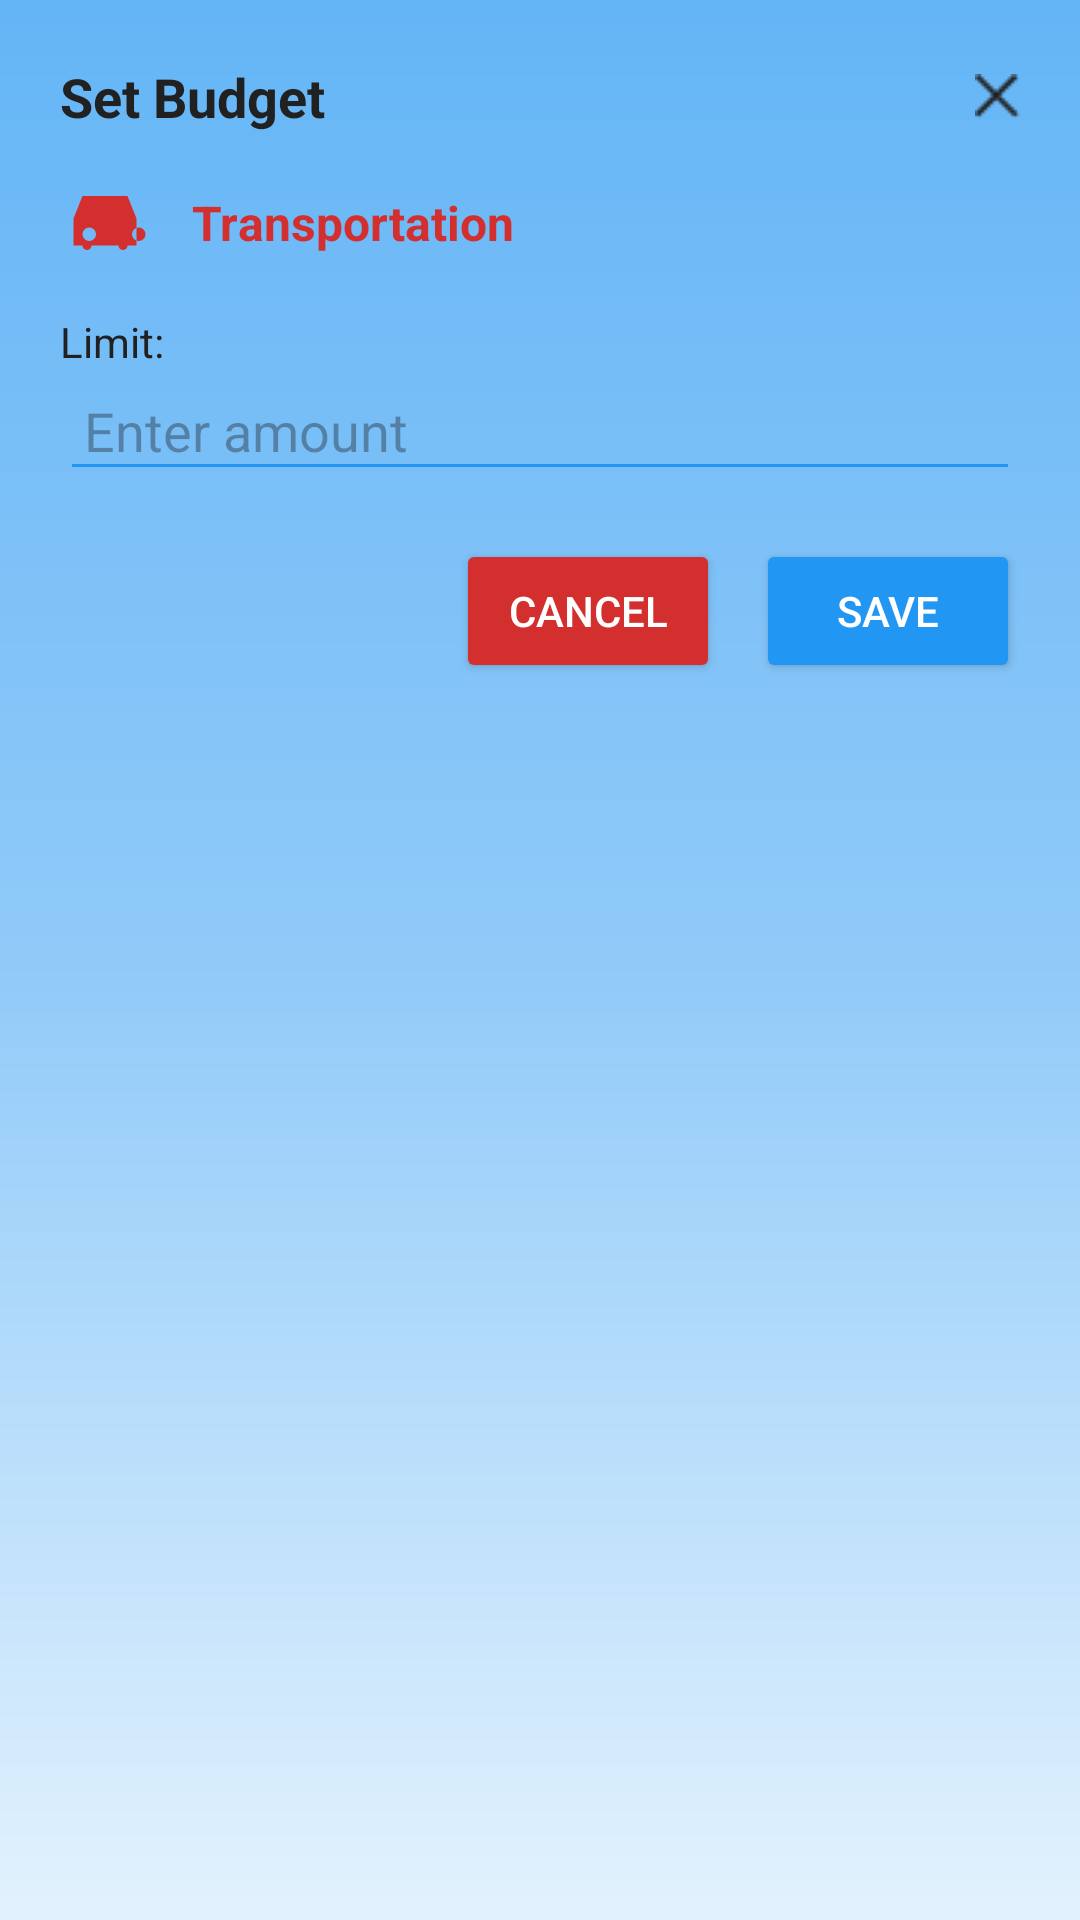

Icon bounding boxes for this 1080×1920 phone screenshot, format (x1=x1, y1=y1, x2=x2, y2=y2):
close: (x1=975, y1=74, x2=1020, y2=117)
